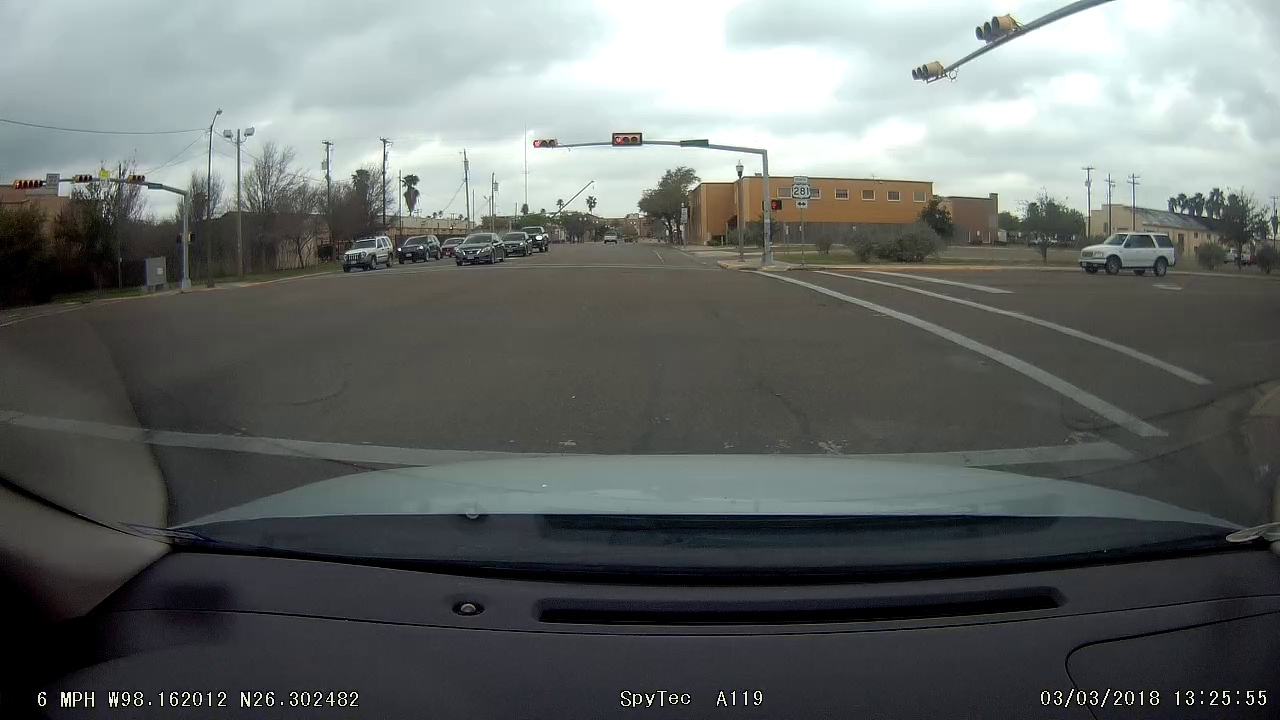crack: (760, 371, 819, 438)
